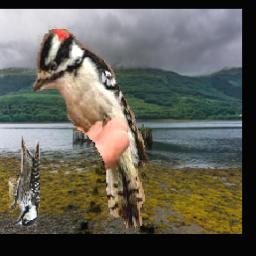Woodpecker: (31, 26, 148, 233), (8, 135, 41, 227)
